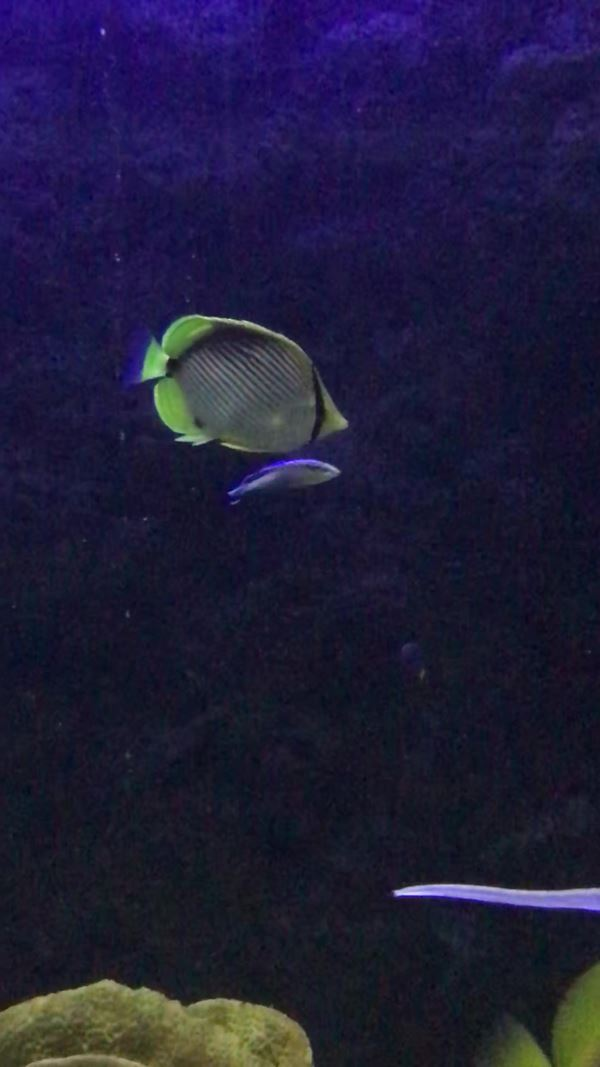Black-backed butterflyfish: (111, 302, 366, 465)
